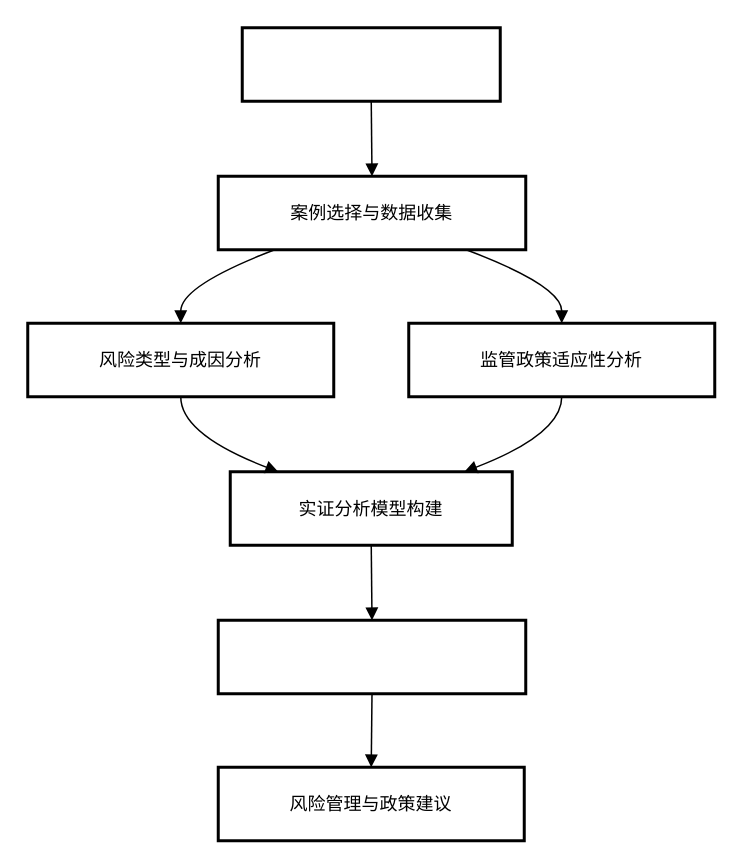
Image size: 741x867. Some labels were removed from this diagram. Here are the shapes that lost their labels. From the top down, the centre of each, then its label:
At pixel 370 64: "文献收集与综述".
At pixel 371 656: "实证结果分析与讨论".
